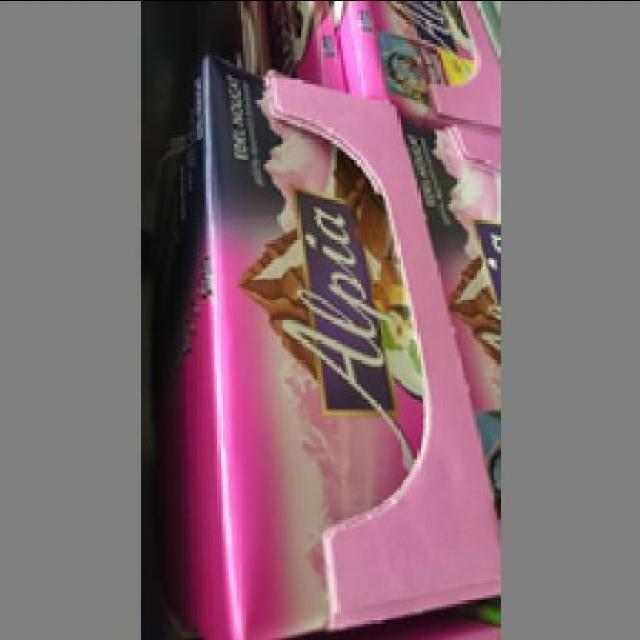Chocolate bar: (189, 52, 425, 638)
